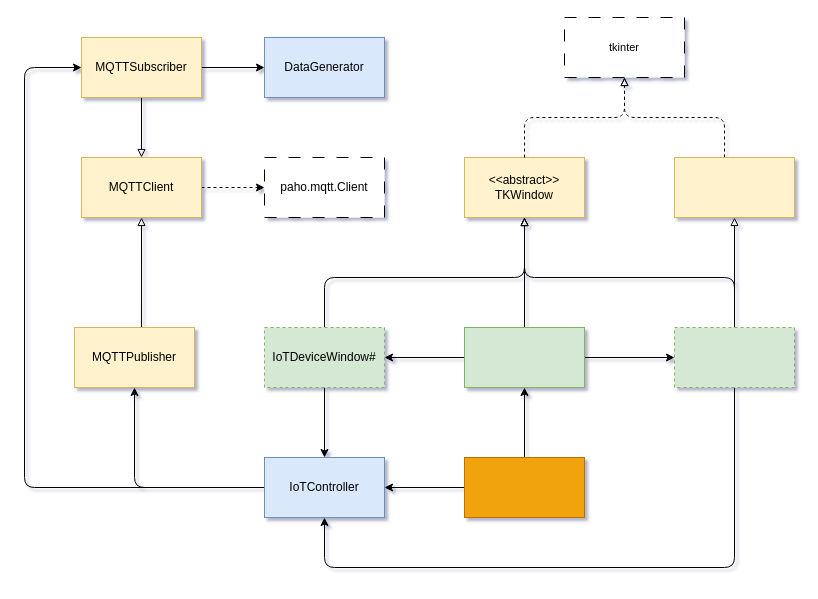
This 818x599 diagram has some shape labels left out. The centre of each missing label's shape, as x and y in pixels:
"<<abstract>> TKCanvas" goes at pixel 734 187.
"ClientWindow#" goes at pixel 734 357.
"Main" goes at pixel 524 487.
"MainGUI" goes at pixel 524 357.
